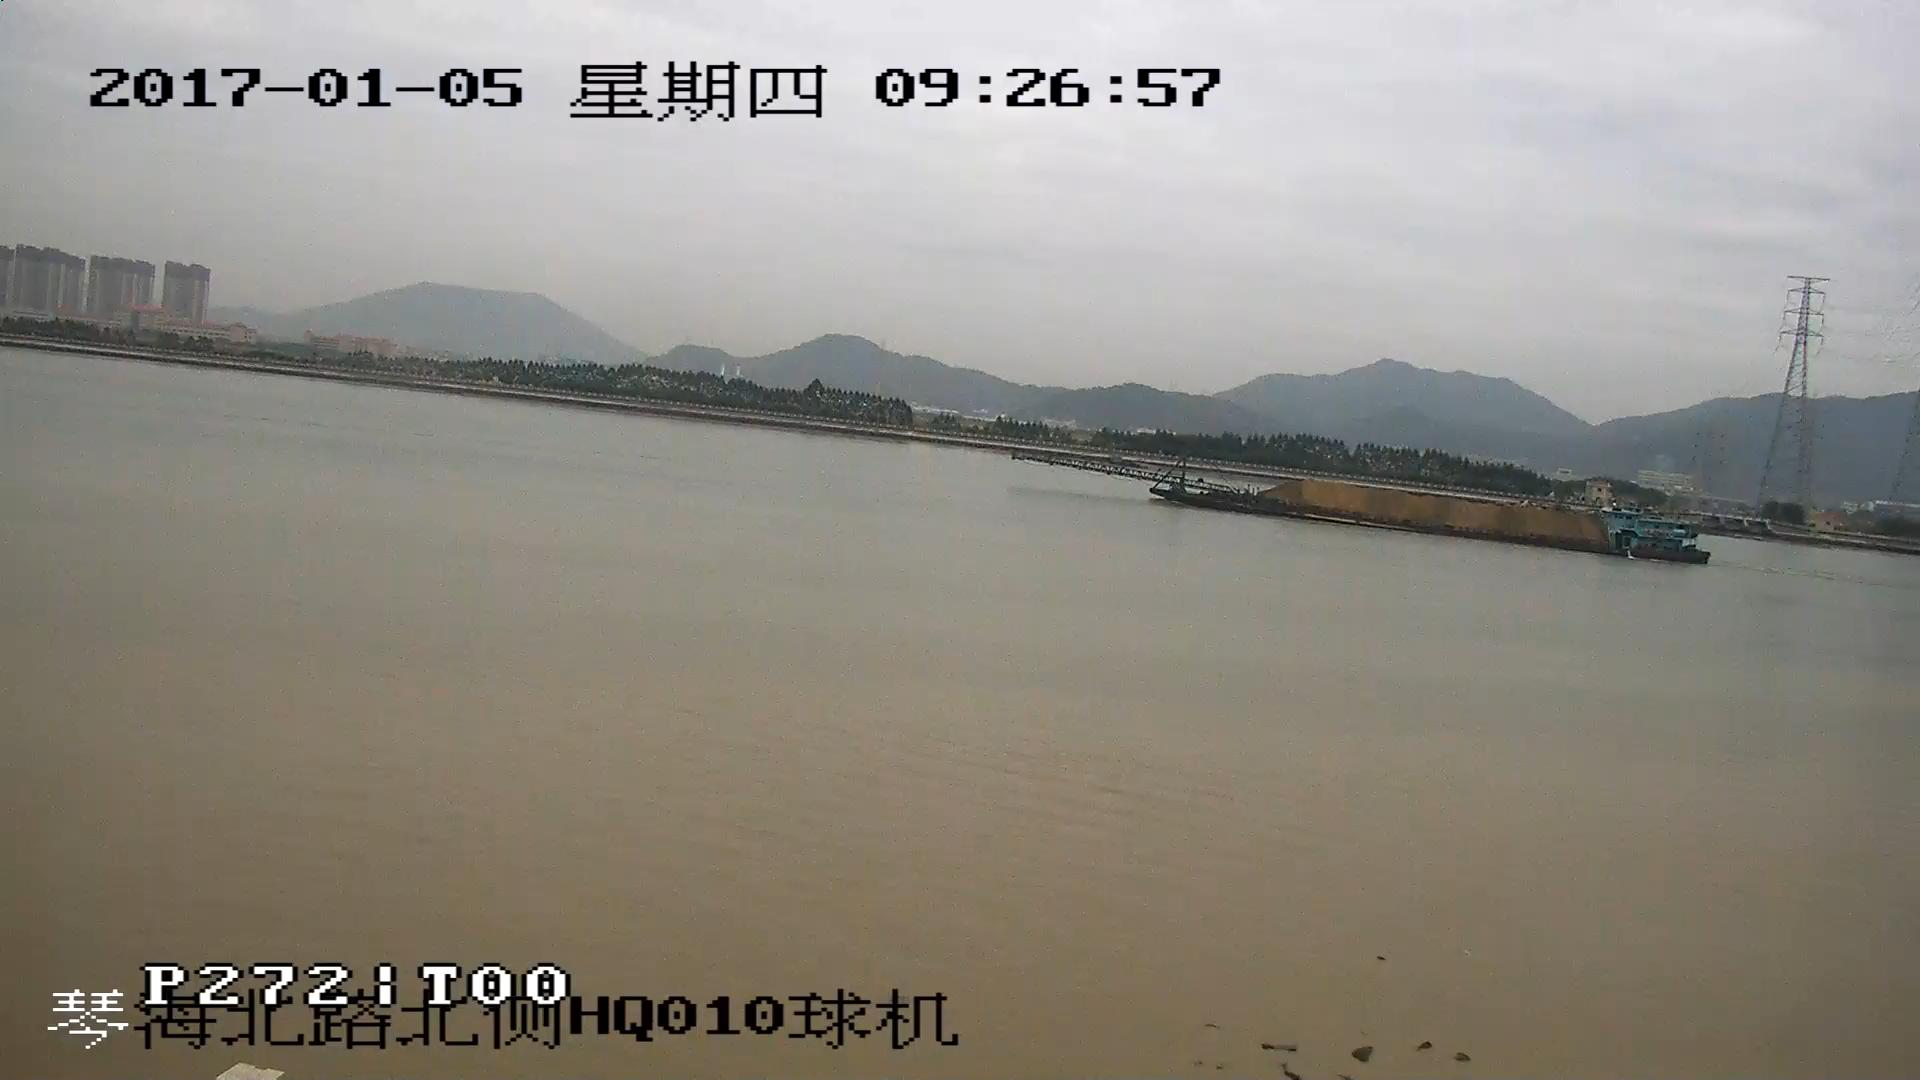ore carrier: (1023, 453, 1709, 565)
